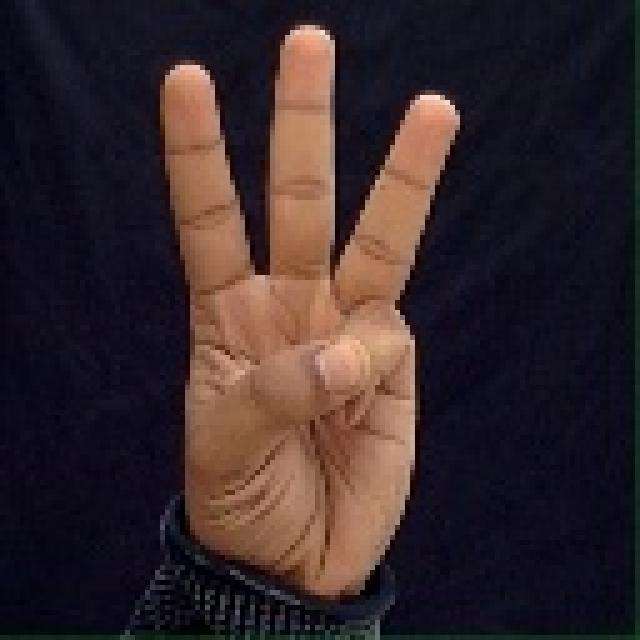Numeric-3: (157, 19, 464, 637)
